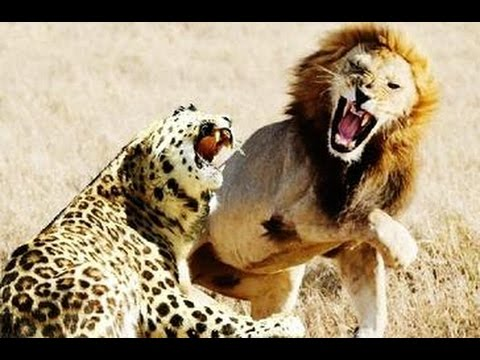leopard: (1, 103, 242, 337)
lion: (187, 21, 437, 333)
